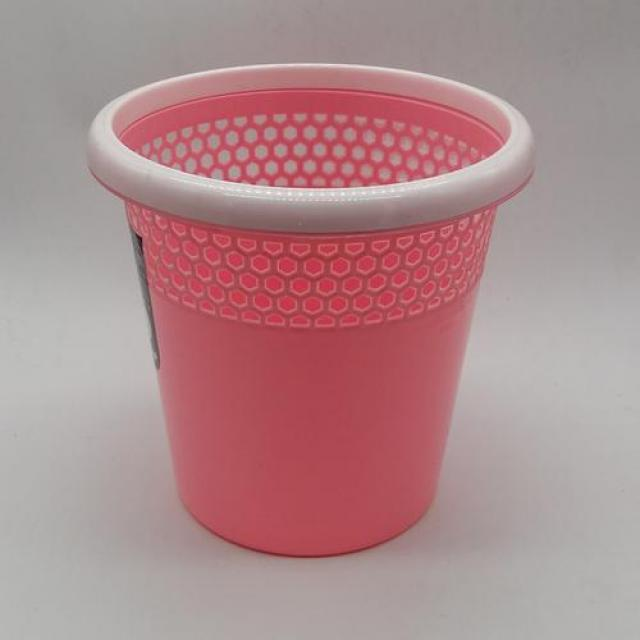Dustbin: (80, 56, 541, 561)
